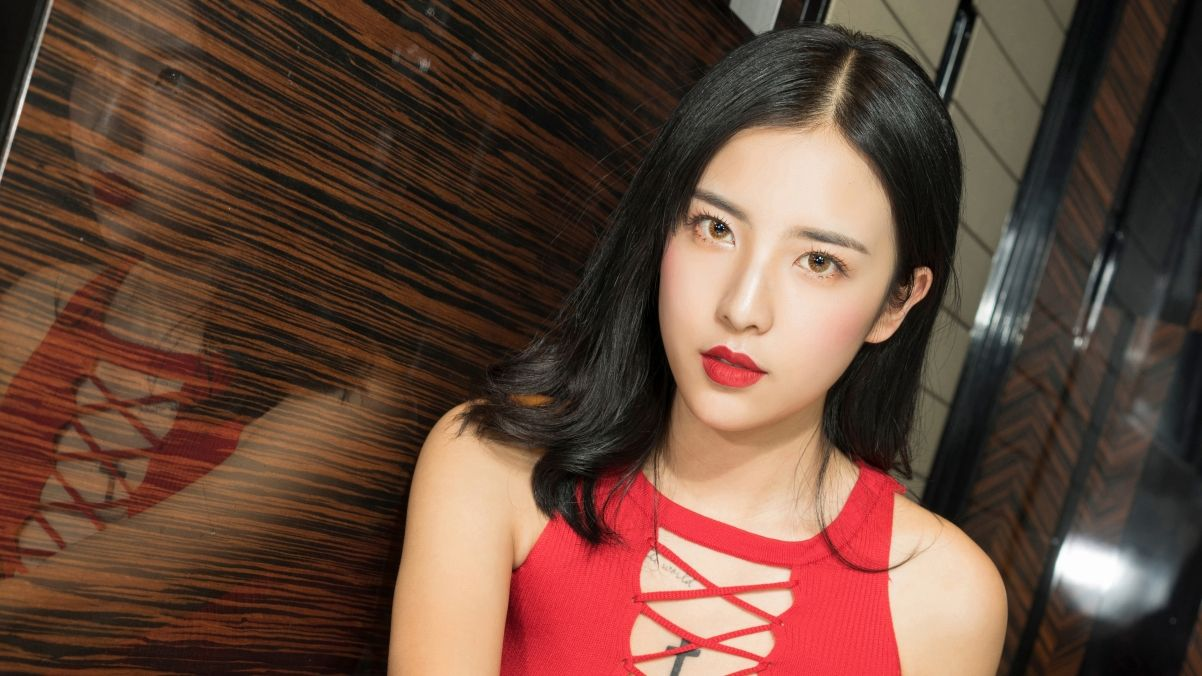person: (488, 68, 1027, 670)
